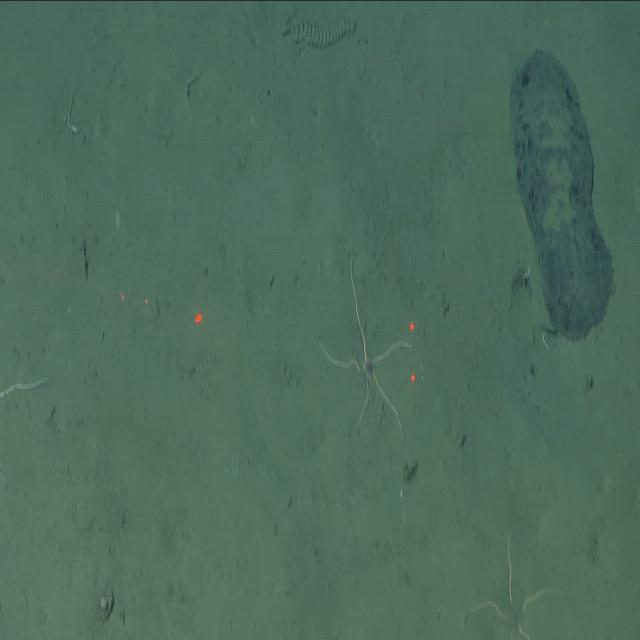Brittle Star: (309, 250, 417, 449), (461, 528, 565, 640), (0, 316, 53, 506)
